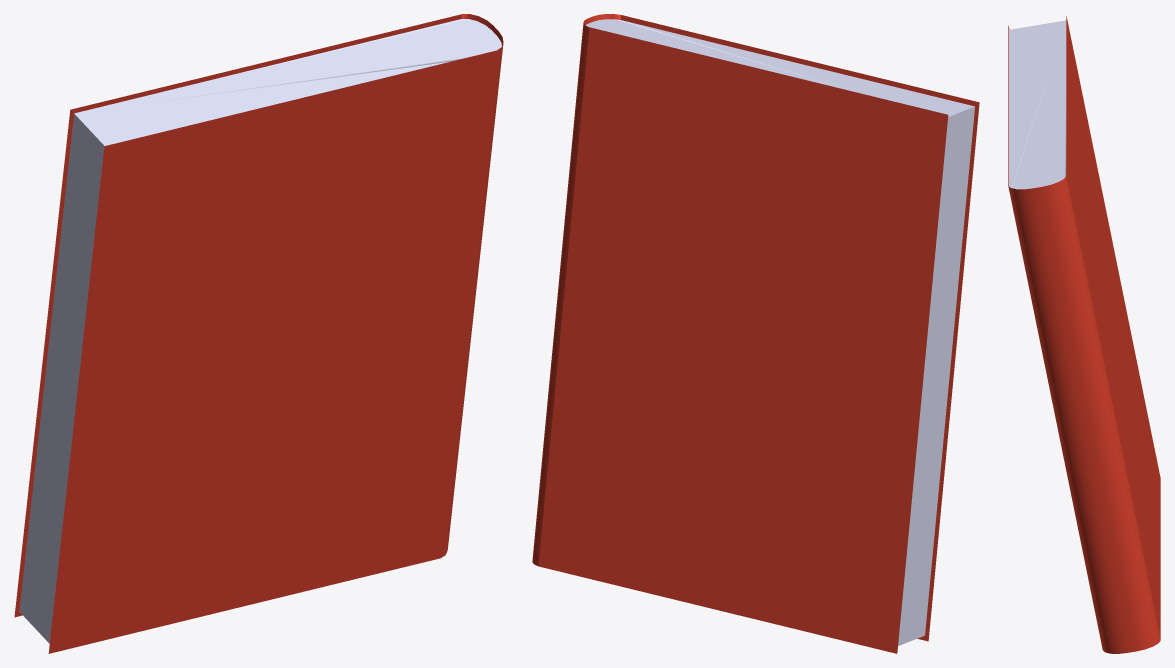
File: book_red.fbx
3 renders of one model, left to right at view 1: azimuth 30°, elevation 25°; view 2: azimuth 150°, elevation 25°; view 3: azimuth 270°, elevation 25°, orthographic. The views are drawn at different scales.
Visible parts, largest first — view 1: 立方体; view 2: 立方体; view 3: 立方体.
Boxes of the visible parts, x1,y1,x2,y2 form: 立方体: (14,14,503,653); 立方体: (532,14,979,653); 立方体: (1008,16,1160,653).
Bounding box in the file's own units: 18.45 × 24.17 × 7.04.
